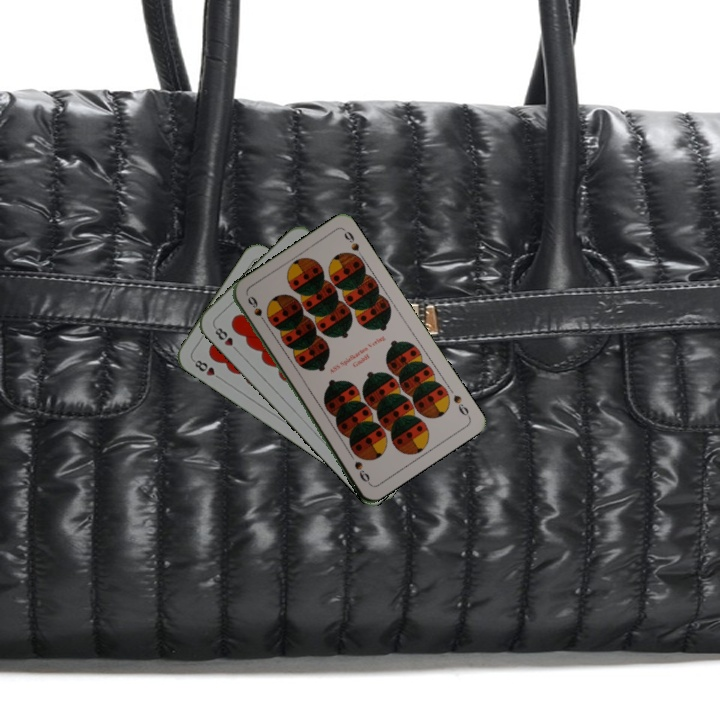H8: (210, 322, 242, 355), (189, 355, 225, 383)
S9: (243, 293, 270, 328), (449, 391, 473, 420)
